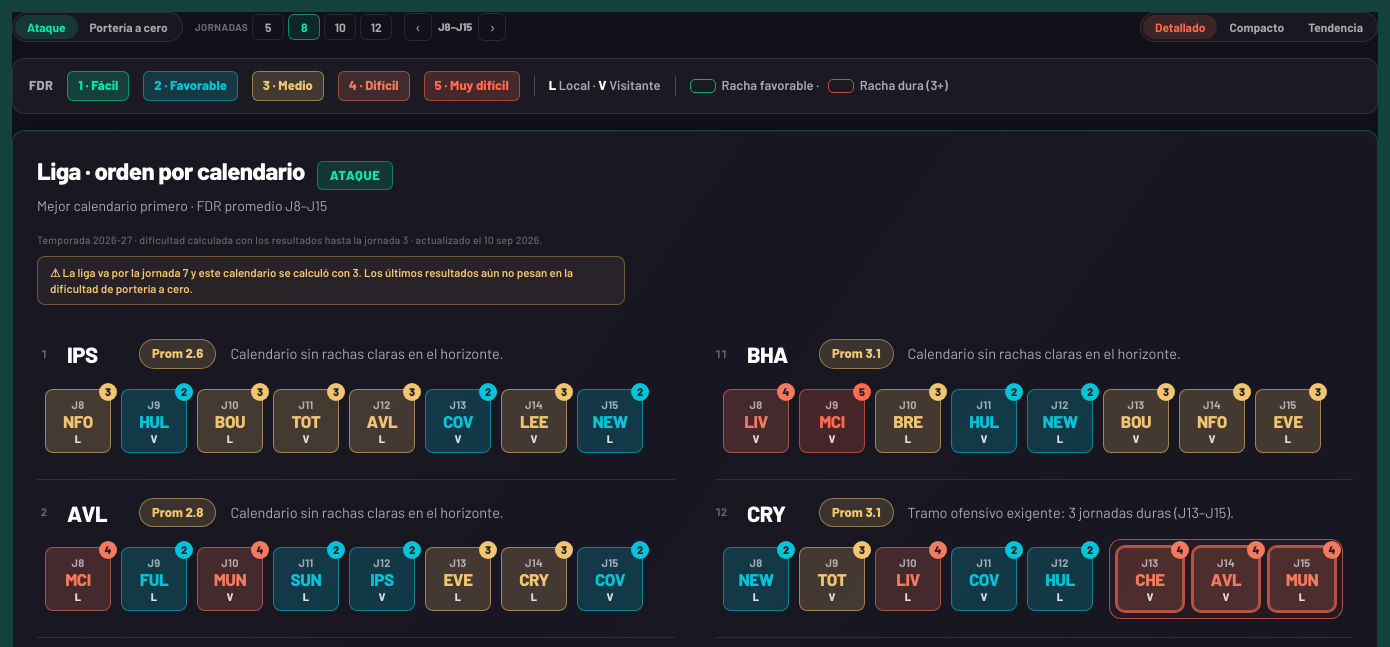
Test: Compact window follows the width (one table, never split) › an explicit pick keeps winning over the fit
The image size is (1390, 647).
Click the button "Compacto": (1257, 27) [1217,15,1296,39]
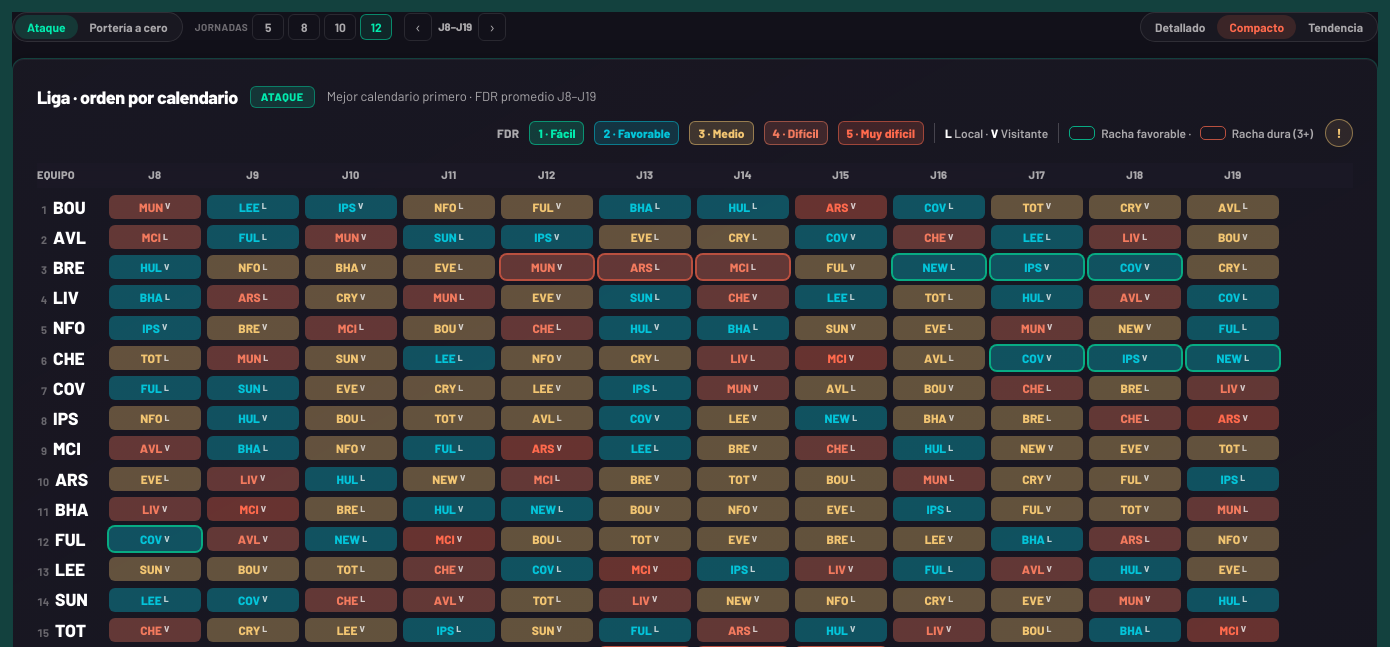
Click the button "5": (268, 27) [252,14,284,40]
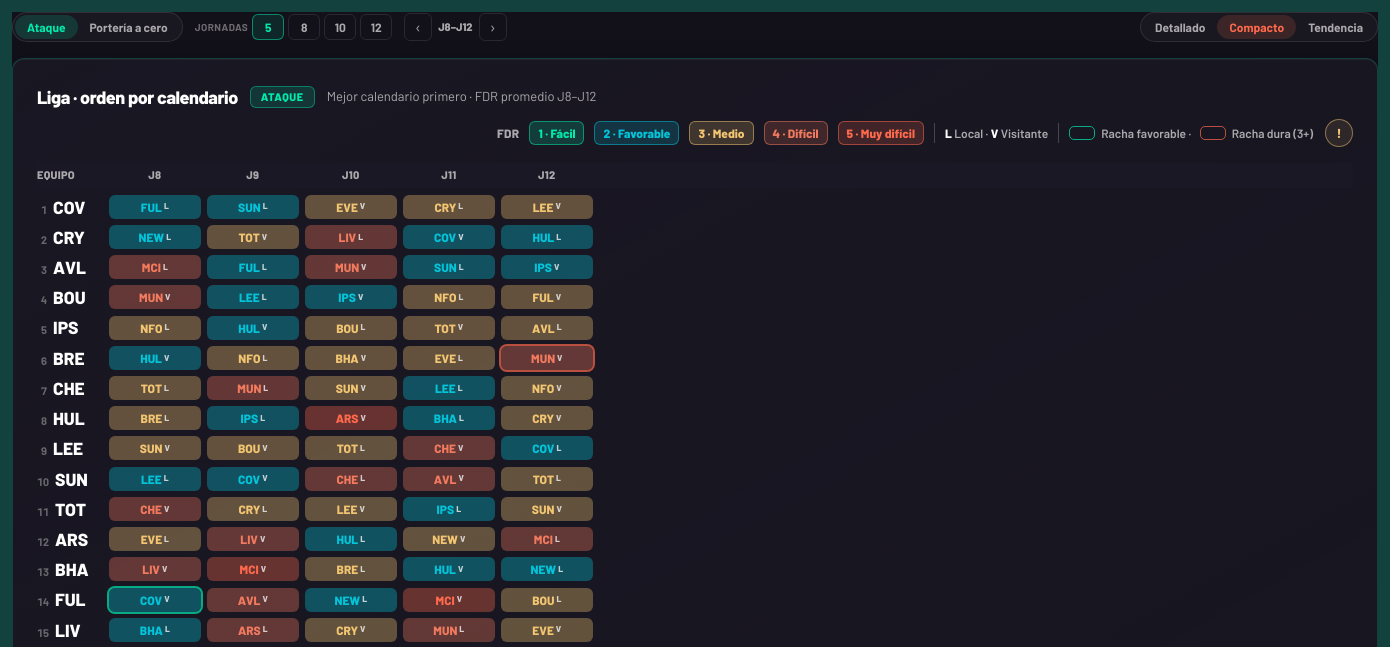
expect the text "J8–J12" is shown: met, box [438,19,473,35]
